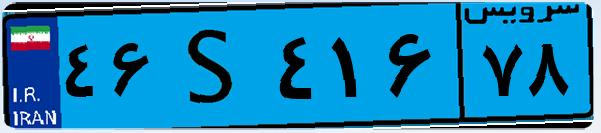1: (330, 28, 385, 110)
4: (270, 28, 330, 110), (57, 26, 110, 100)
6: (385, 28, 445, 110), (110, 28, 158, 98)
7: (475, 38, 525, 113)
8: (525, 38, 570, 115)
S: (158, 12, 270, 120)
